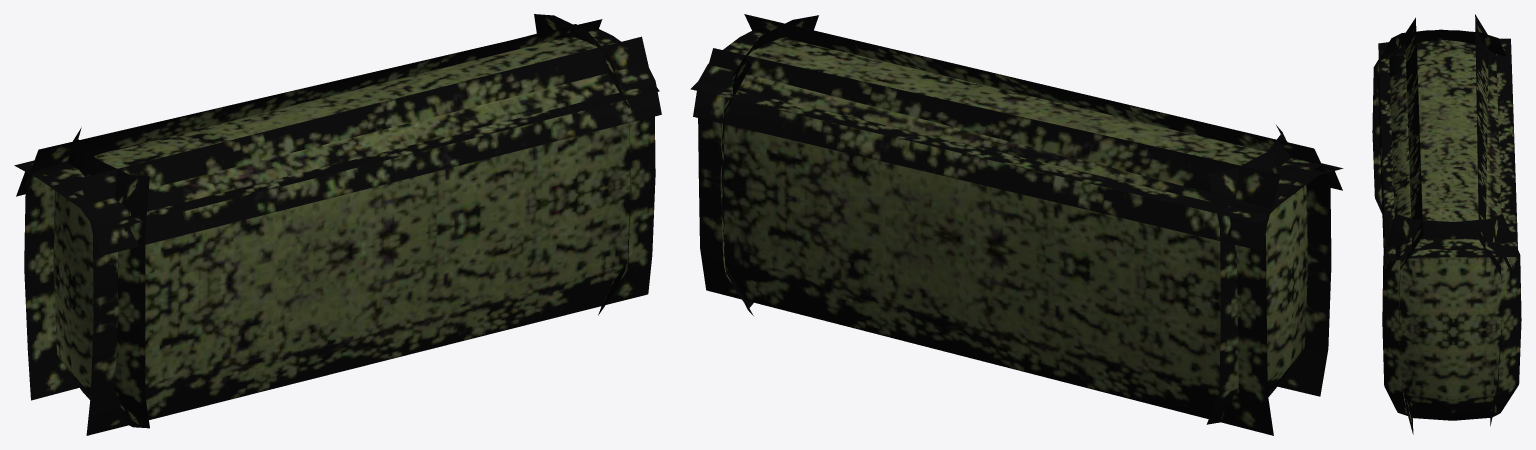
The model's file is bushes.fbx.
The picture shows the model from 3 angles, left to right: view 1: azimuth 30°, elevation 25°; view 2: azimuth 150°, elevation 25°; view 3: azimuth 270°, elevation 25°; orthographic projection. The views are drawn at different scales.
Parts seen in each view (by area): view 1: Plant_HedgeBush__211_.001; view 2: Plant_HedgeBush__211_.001; view 3: Plant_HedgeBush__211_.001.
Part boxes in pixels (x1,y1,x2,y2): Plant_HedgeBush__211_.001: [14, 14, 661, 435]; Plant_HedgeBush__211_.001: [690, 14, 1343, 435]; Plant_HedgeBush__211_.001: [1372, 14, 1521, 434].
Size of the model in its own units: 327 by 140 by 93.28.
Materials: 1 (1 with a texture image).
